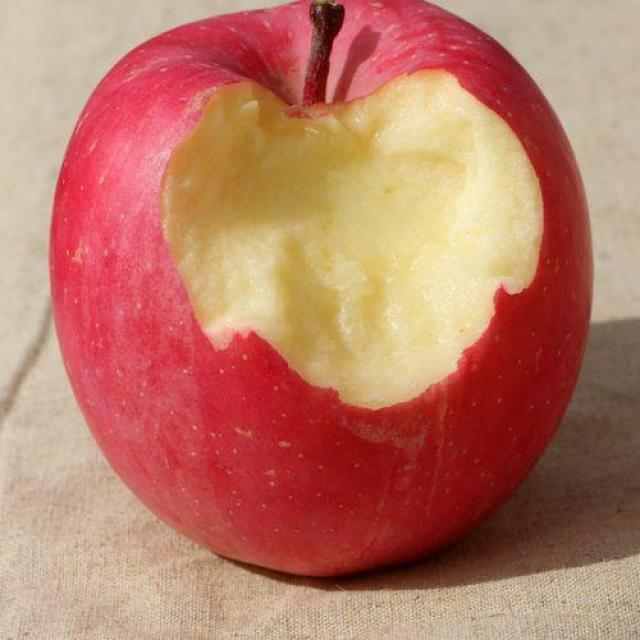Apple: (45, 0, 595, 583)
